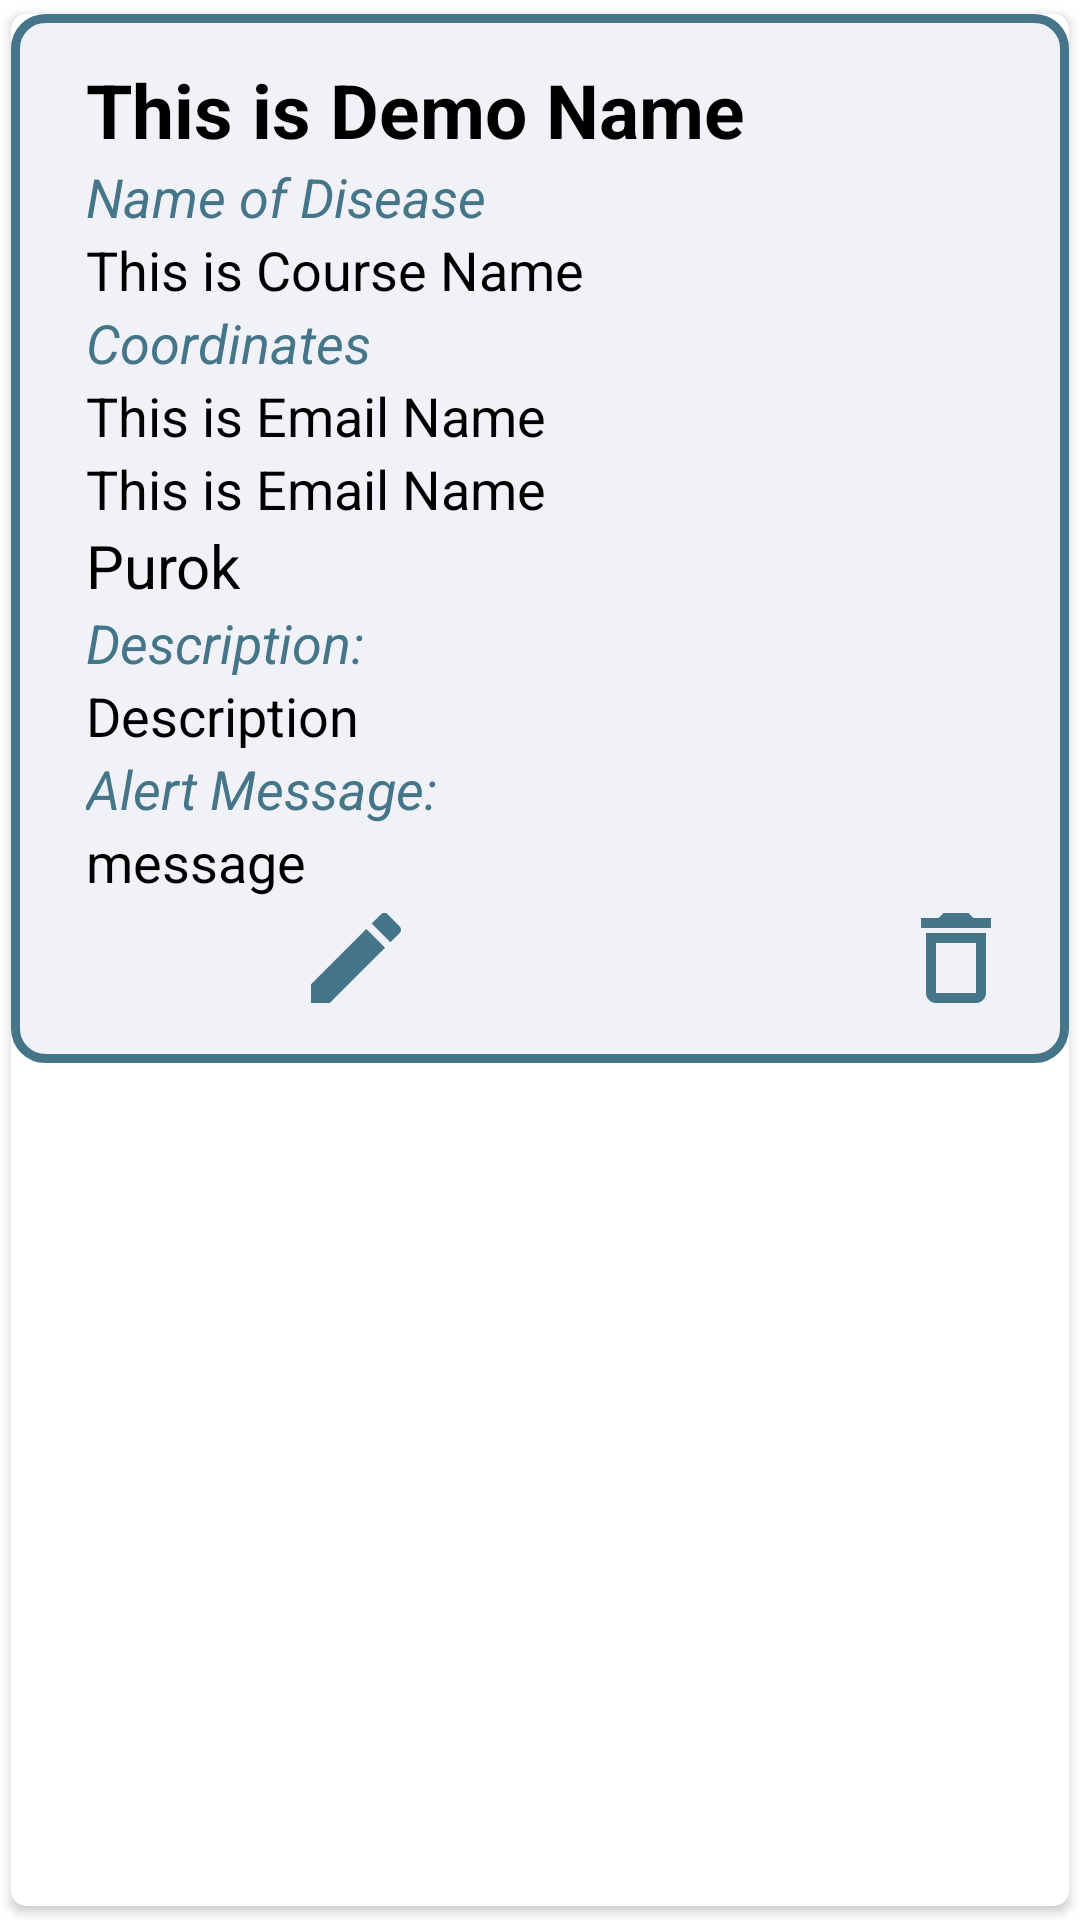

Icons on this 1080px x 1920px Android screen, each with the point to tap as (x,y):
edit: (356,958)
